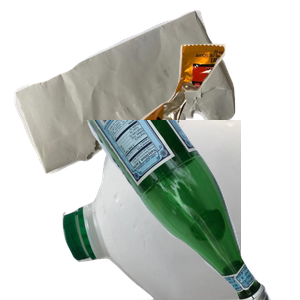glass: (75, 120, 300, 300)
paper: (12, 10, 240, 176)
plastic: (60, 120, 300, 300)
trash: (122, 41, 300, 190)
